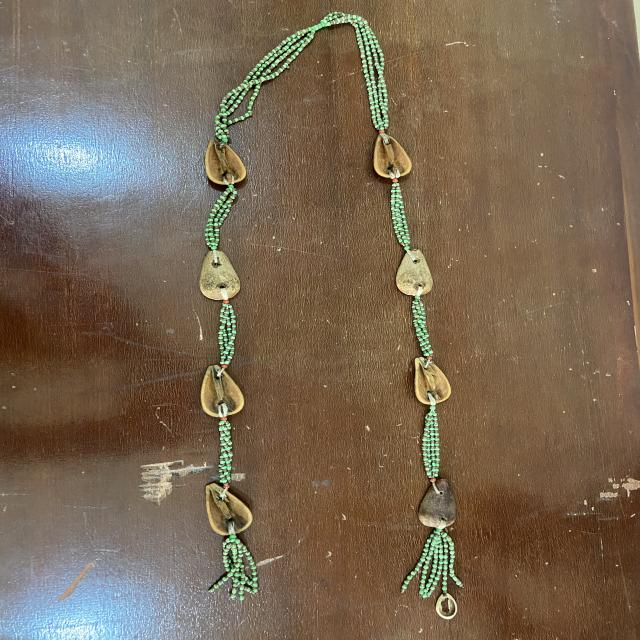facedown: (194, 245, 248, 302), (417, 472, 463, 536), (392, 244, 443, 301)
faceup: (194, 481, 262, 538), (361, 126, 418, 185), (405, 352, 457, 411), (193, 364, 249, 416), (202, 139, 251, 191)
